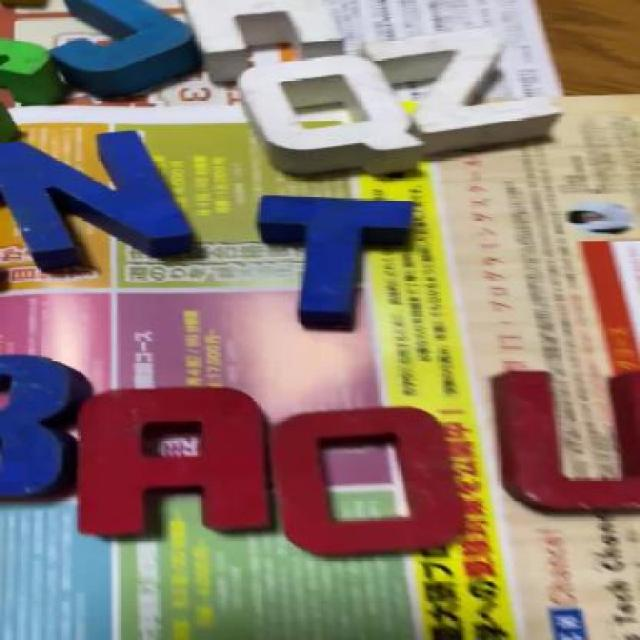A: (77, 388, 274, 538)
N: (0, 127, 191, 270)
O: (279, 398, 473, 558)
Q: (238, 48, 430, 188)
T: (244, 194, 430, 328)
U: (487, 367, 639, 533)
Z: (366, 28, 571, 147)
